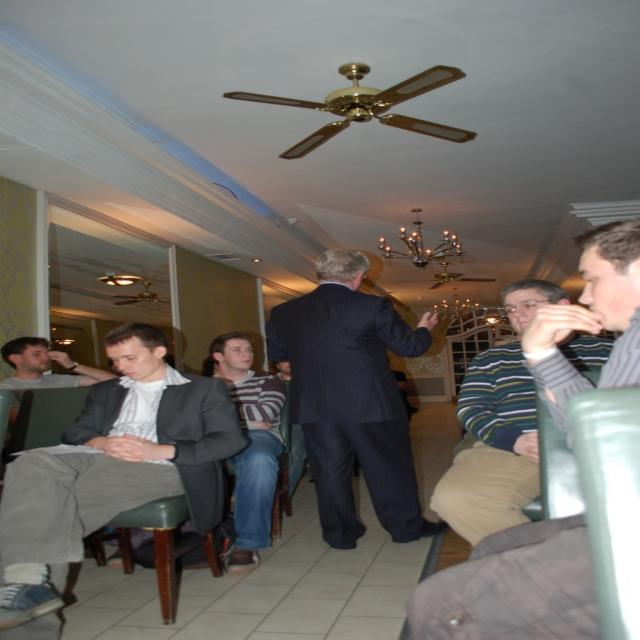Bulb: (224, 61, 481, 160), (396, 261, 494, 291), (114, 281, 173, 306)
